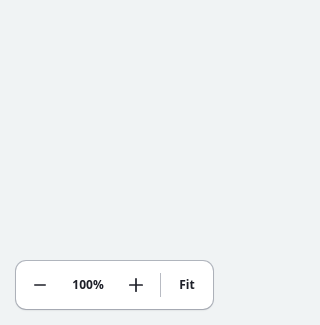
Test: NavigationControls › offers zoom presets and fit controls with an updating zoom readout
The image size is (320, 325).
Expected: the navigation bar named "Canvas navigation" is shown, [16,261,213,309]
Click the button named "Zoom in" at (136, 285), box [116,265,156,305]
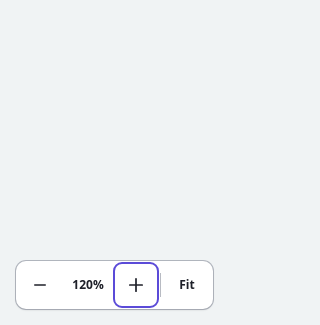
Expected: the button named "Zoom level" reads "120%"
Click the button named "Zoom level" at (88, 285), box [60,265,116,305]
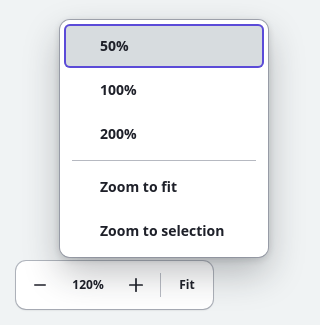
Expected: the menu named "Zoom options" is shown, [60,20,268,257]
Click the menu item named "Zoom to 100%" at (164, 90), box [64,68,264,112]
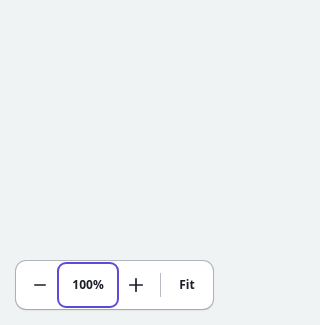
Click the button named "Zoom level" at (88, 285), box [60,265,116,305]
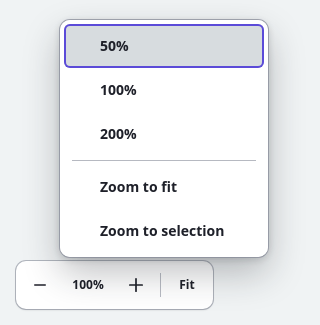
Expected: the menu item "Zoom to fit" is shown, [64,165,264,209]
Expected: the menu item "Zoom to selection" is shown, [64,209,264,253]
